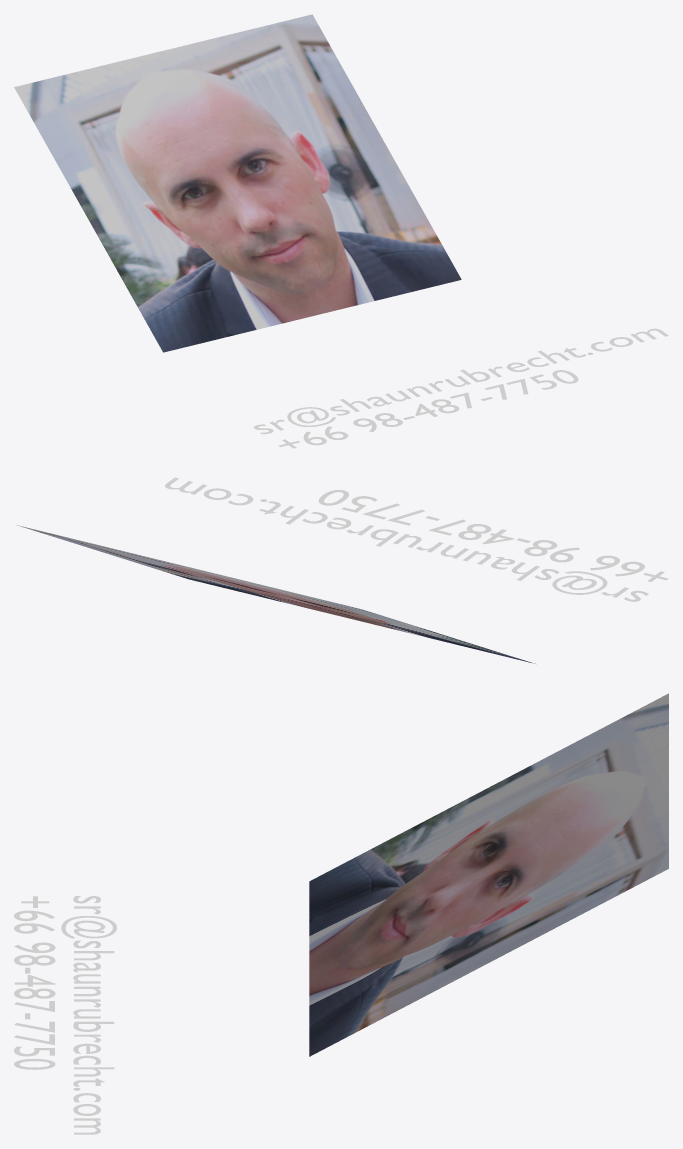
Rendered from firstAttempt.glb.
3 views of the same model, one above another, from view 1: azimuth 30°, elevation 25°; view 2: azimuth 150°, elevation 25°; view 3: azimuth 270°, elevation 25° (orthographic). The views are drawn at different scales.
Visible parts, largest first — view 1: Sitting, text; view 2: text, Sitting; view 3: Sitting, text.
Boxes of the visible parts, bbox=[...] form: Sitting: bbox=[14, 14, 461, 352]; text: bbox=[253, 328, 668, 448]; text: bbox=[165, 477, 668, 601]; Sitting: bbox=[16, 525, 535, 663]; Sitting: bbox=[309, 693, 668, 1056]; text: bbox=[14, 896, 116, 1134].
Bounding box in the file's own units: 9.57 × 3.75 × 11.04.
1 material, 1 textured.
